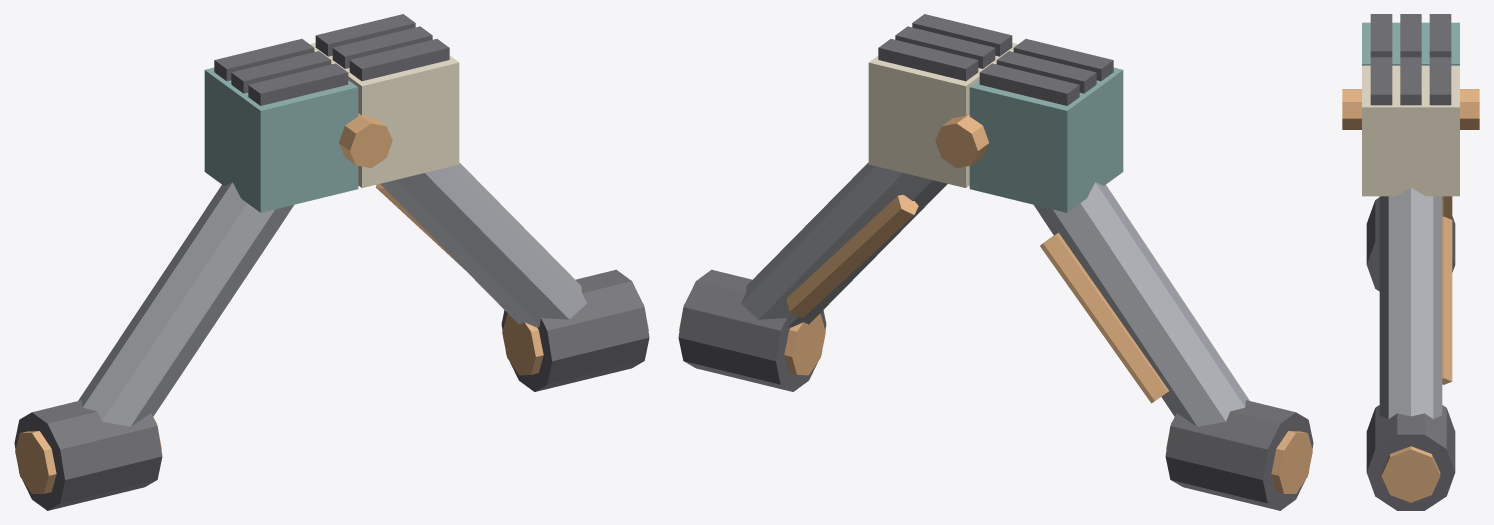
The model's file is armwrestle_arms.glb.
3 renders of one model, left to right at view 1: azimuth 30°, elevation 25°; view 2: azimuth 150°, elevation 25°; view 3: azimuth 270°, elevation 25°, orthographic. The views are drawn at different scales.
Visible parts, largest first — view 1: ArmwrestleArms; view 2: ArmwrestleArms; view 3: ArmwrestleArms.
Part boxes in pixels (x1=…): ArmwrestleArms: x1=14, y1=14, x2=649, y2=510; ArmwrestleArms: x1=678, y1=14, x2=1313, y2=510; ArmwrestleArms: x1=1342, y1=14, x2=1479, y2=510.
Size of the model in its own units: 0.616 by 0.3728 by 0.14.
